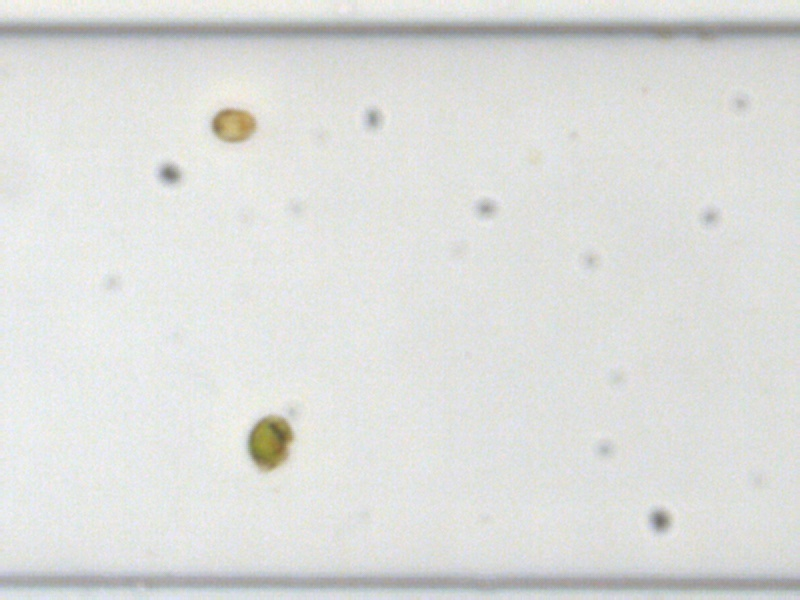Effrenium: (208, 106, 260, 143)
Platymonas: (245, 412, 294, 474)
